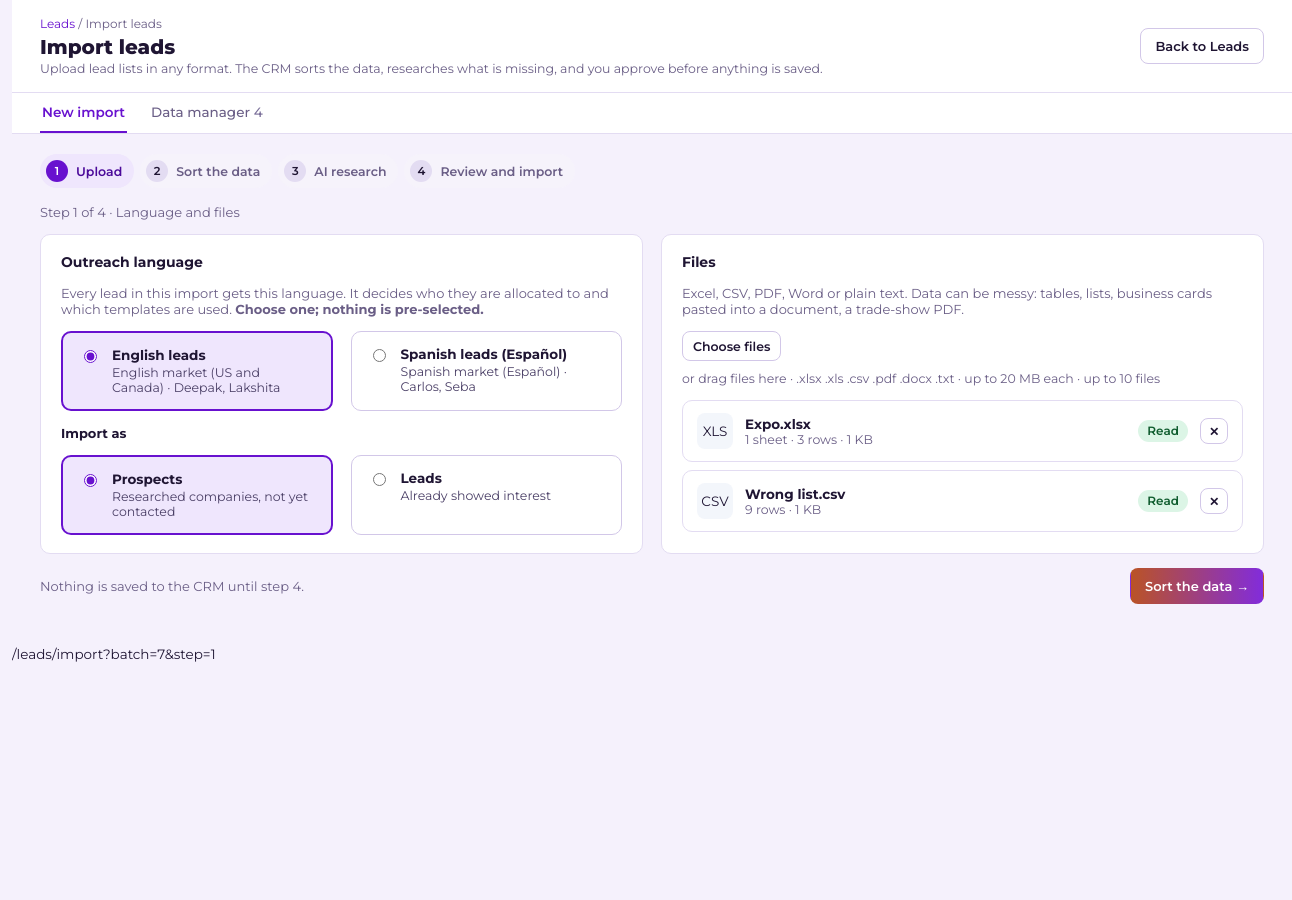
Test: step 1: remove an uploaded file (26 Nov 2026) › after sorting the server refuses (409 file_remove_locked): the reason is shown and the file stays
Click the button named "Remove Expo.xlsx" at (1214, 431), box [1200,418,1228,444]
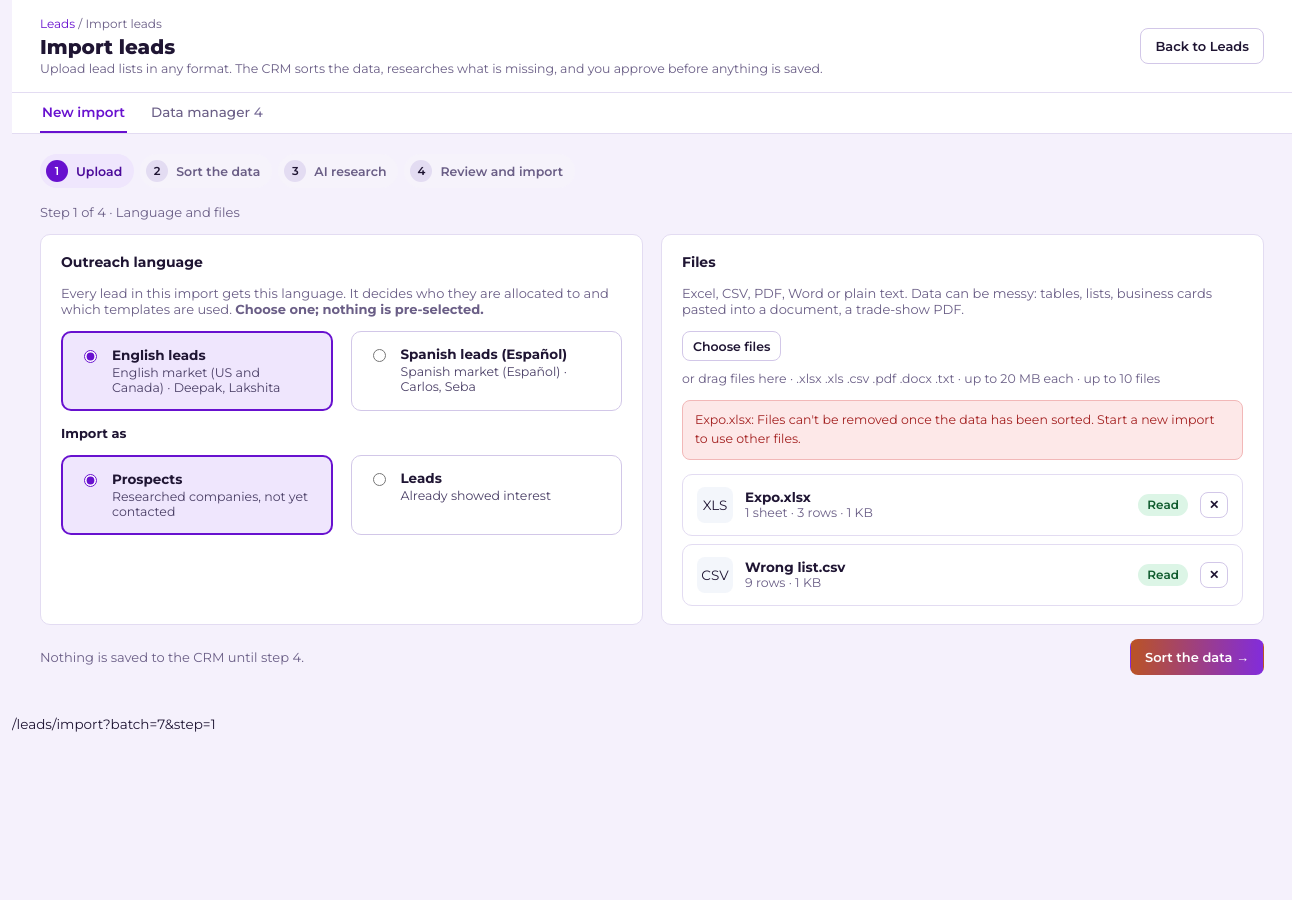
Check: the text "Expo.xlsx" is shown, box [745,489,811,505]
Check: the text "Expo.xlsx: Files can't be removed once the data has been sorted." is shown, box [695,412,1214,446]
